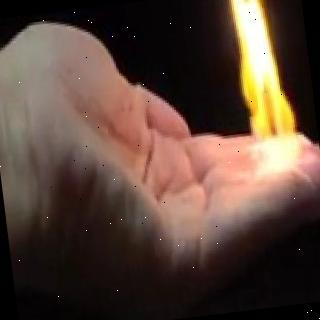fire: (219, 0, 310, 202)
